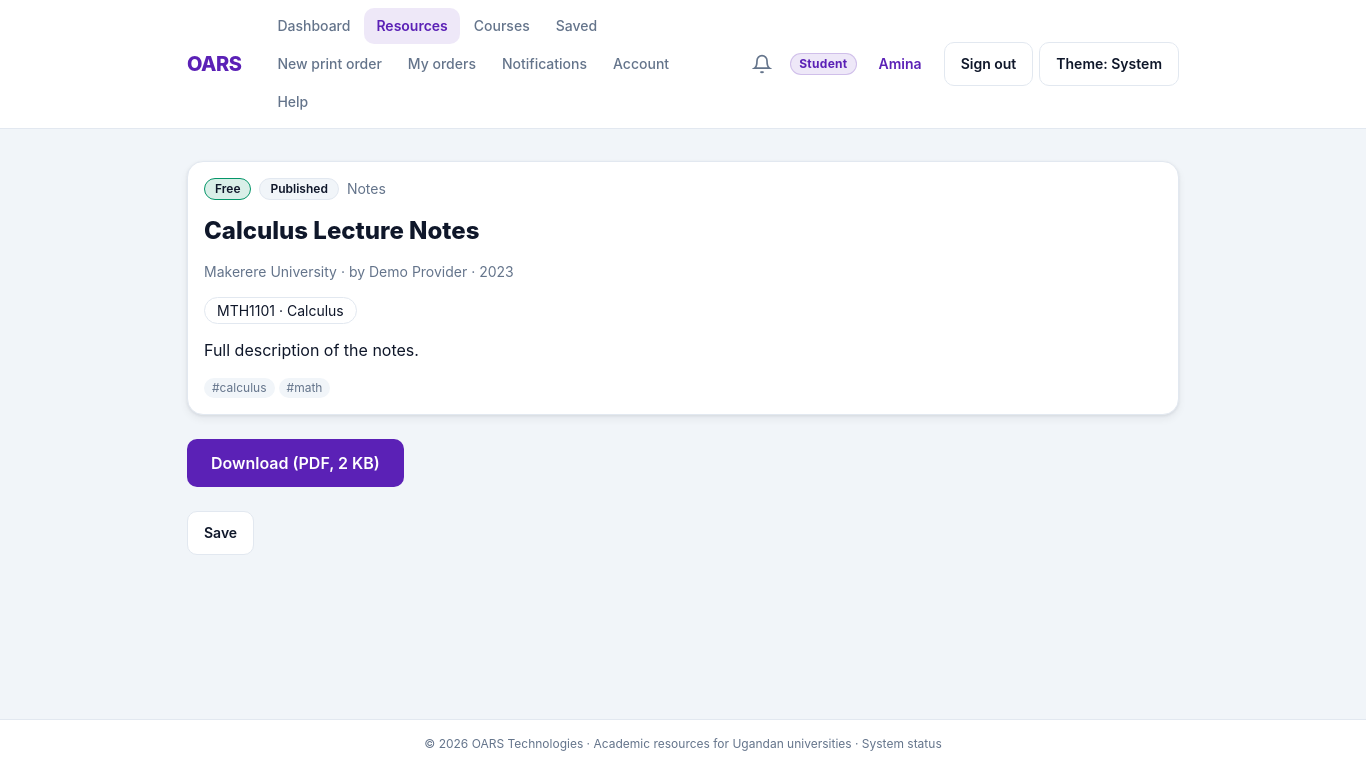
Scenario: ResourceDetailPage › shows the server's refusal if a download is denied
Step 1. Click the button "Download (PDF, 2 KB)" → (295, 463), box [187,439,404,487]
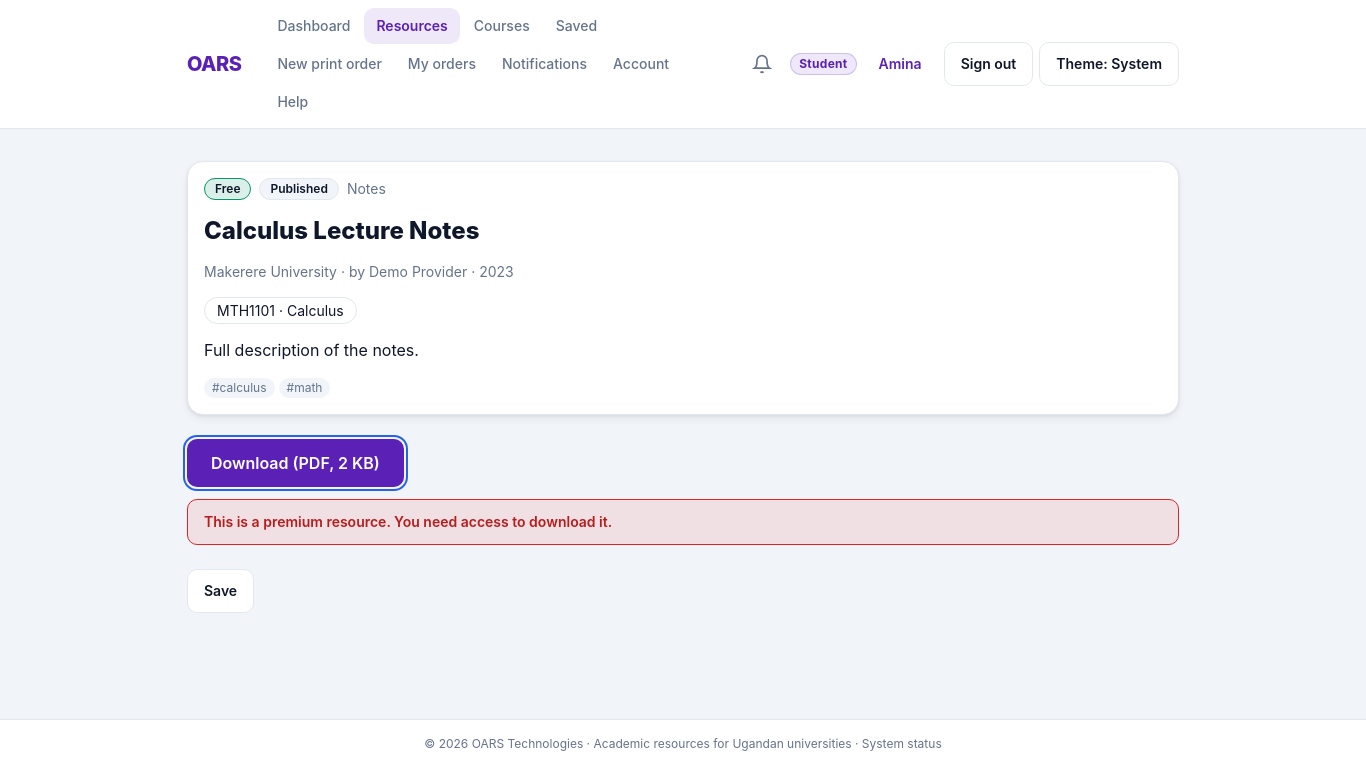
Expected: the message shows "premium resource", [204,513,612,530]
